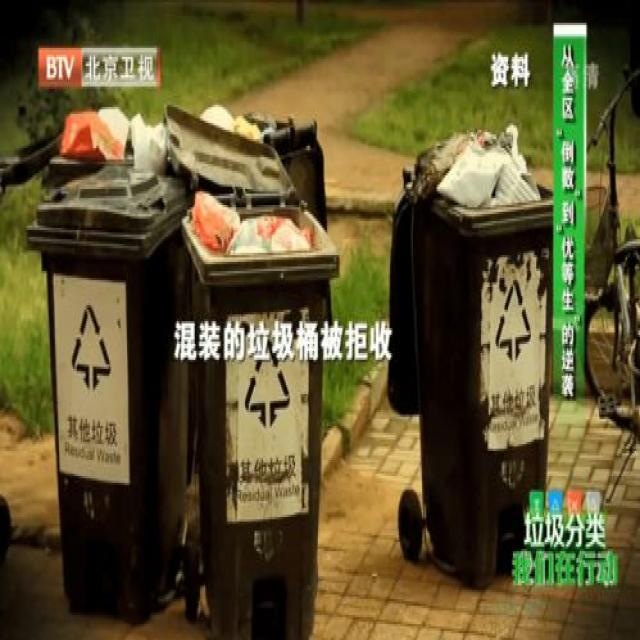overflow: (24, 105, 194, 624), (386, 121, 552, 590), (181, 189, 340, 638)
